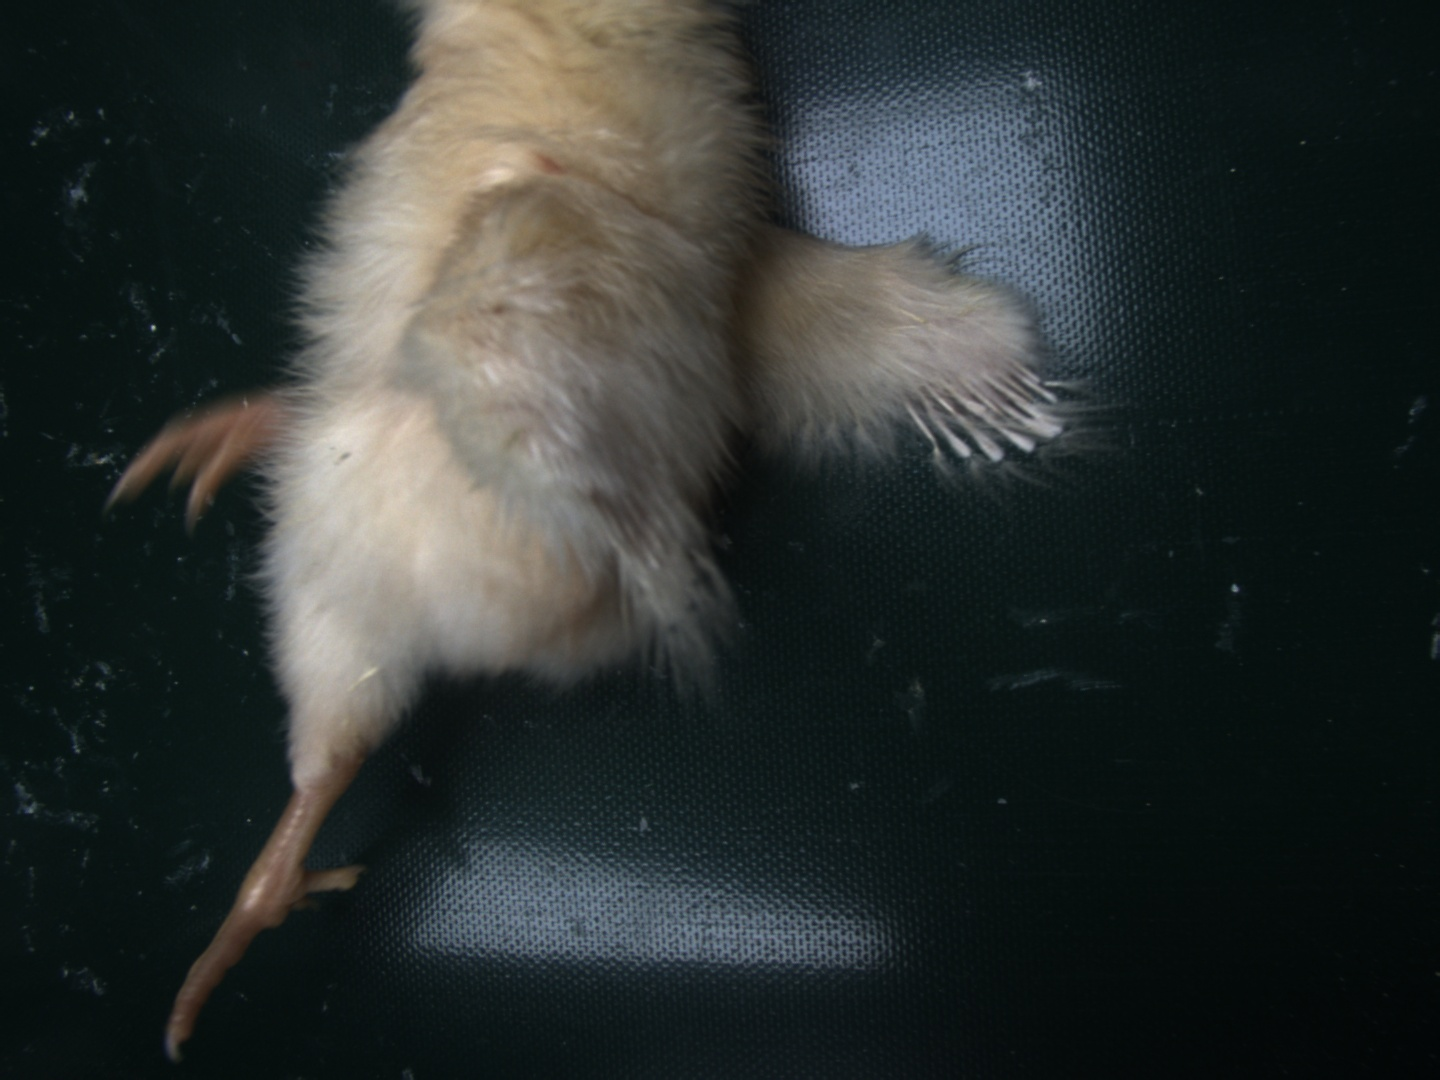female: (901, 356, 1068, 465)
